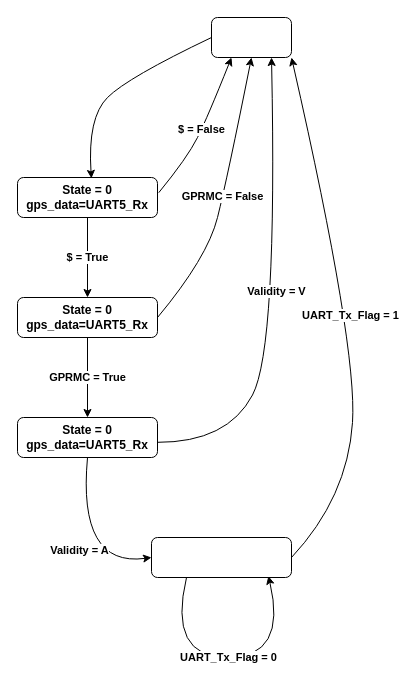
The diagram is 416 pixels wide and 681 high, and some of its shapes have lost their labels. The shapes that lost their labels are listed below. From the top down, each one's centre as x and y in pixels, then its label:
At [251,37]: "Start".
At [221,557]: "UART0_Tx=gps_data".
